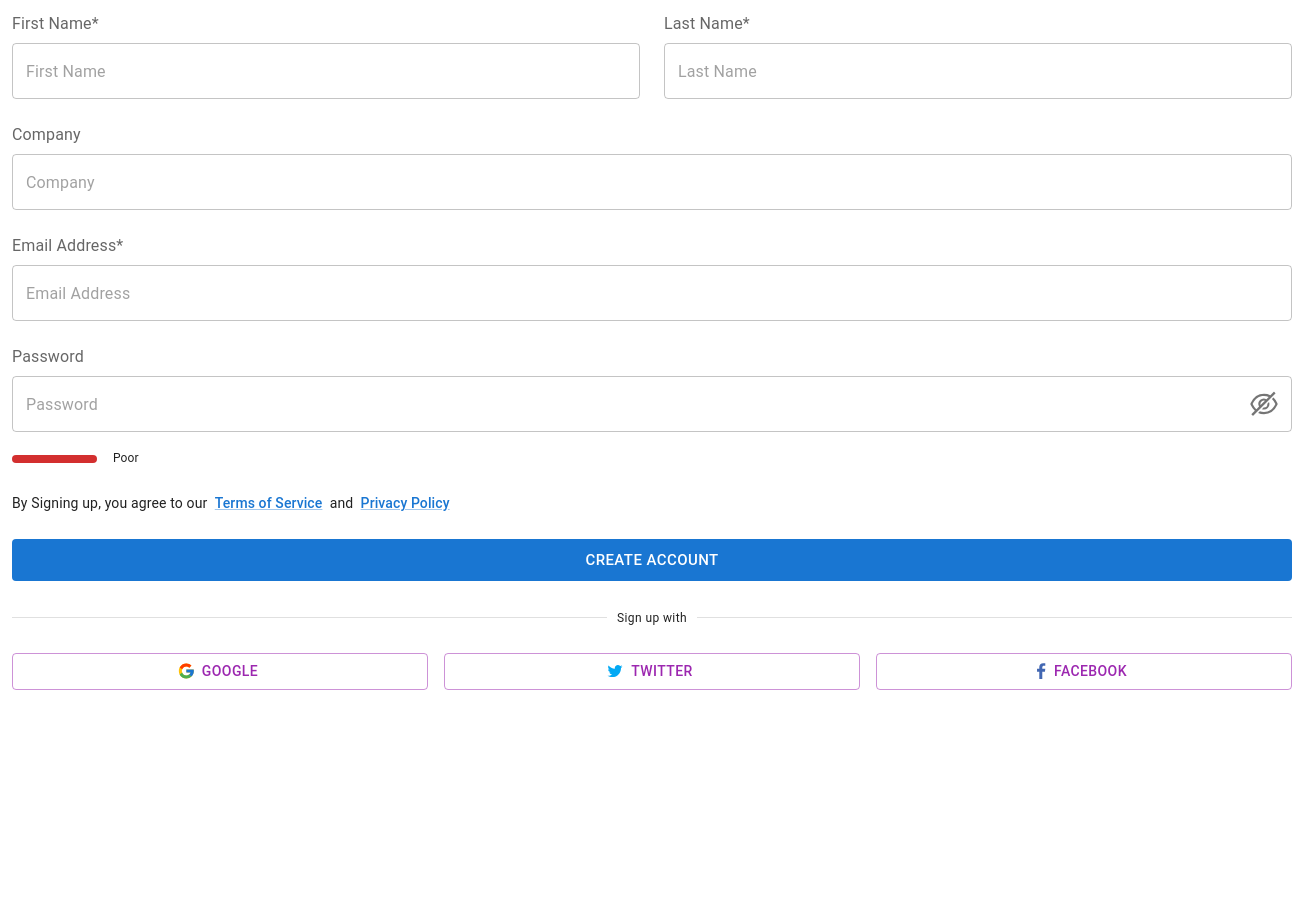
Test case: form validation should work › First Name required should work
The image size is (1304, 912).
Focus the field with placeholder "First Name": coordinates (326, 71) [12, 43, 640, 99]
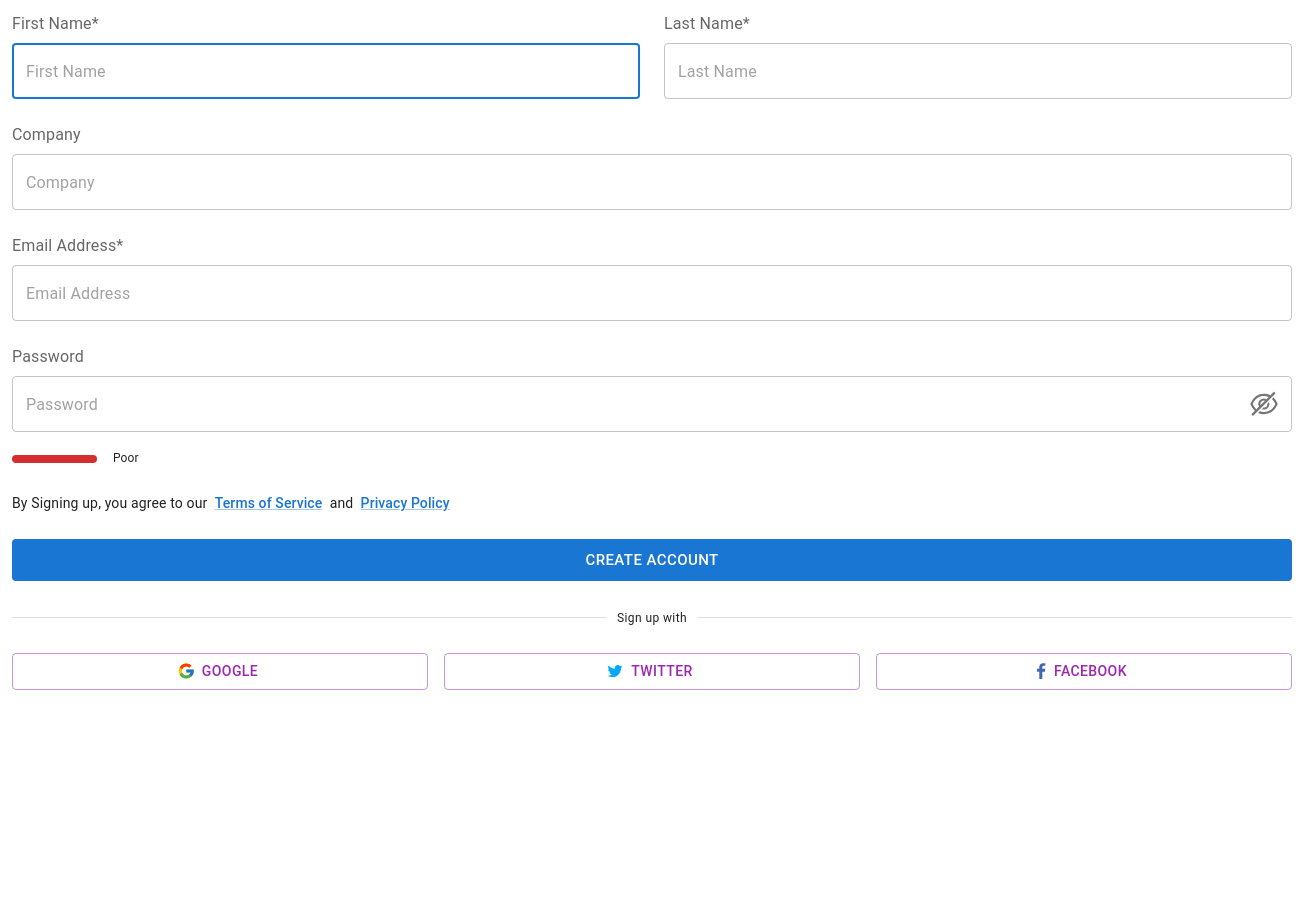
Leave the field with placeholder "First Name", box [12, 43, 640, 99]
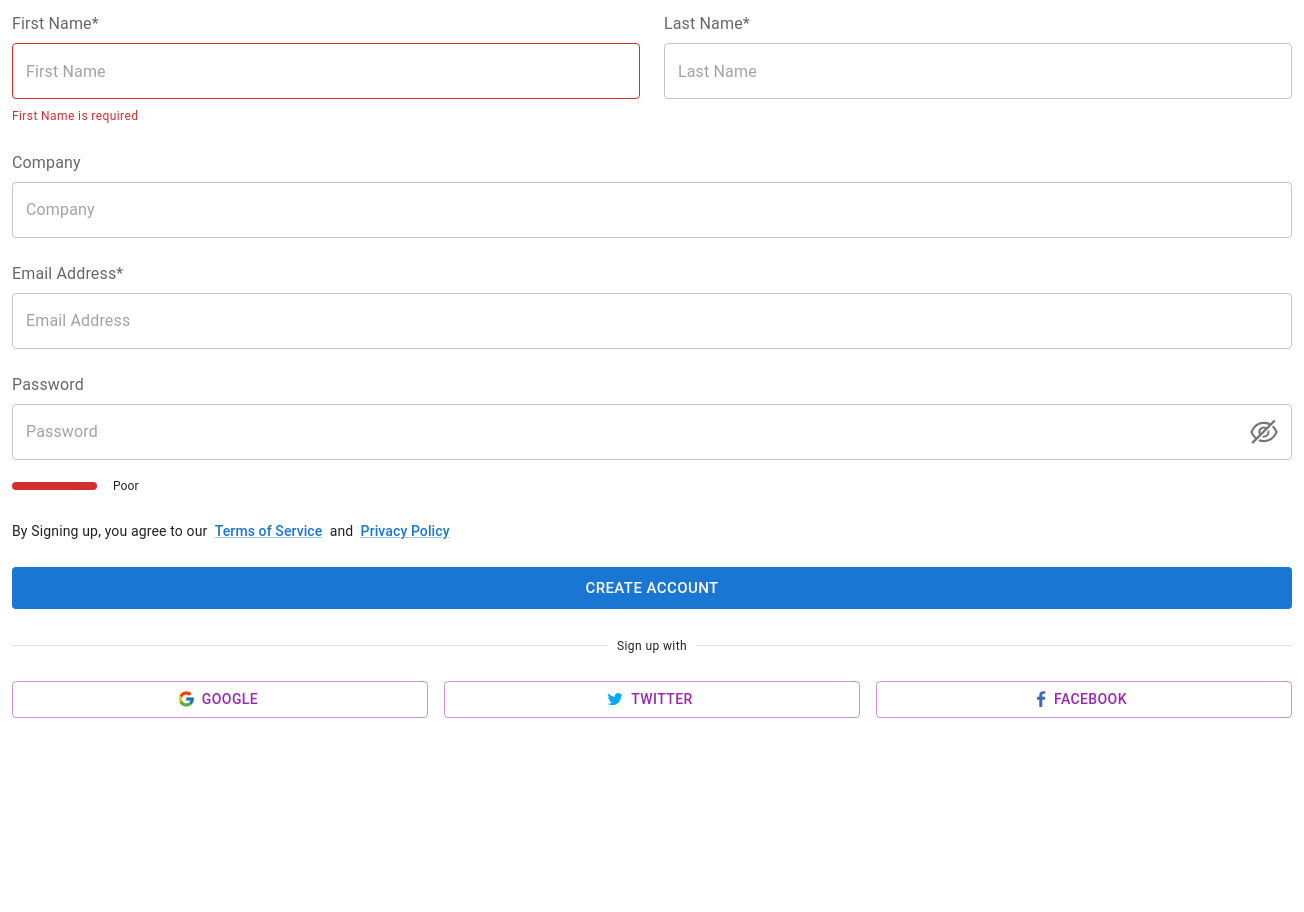
Result: the text "First Name is required" is shown at [12, 109, 138, 123]
